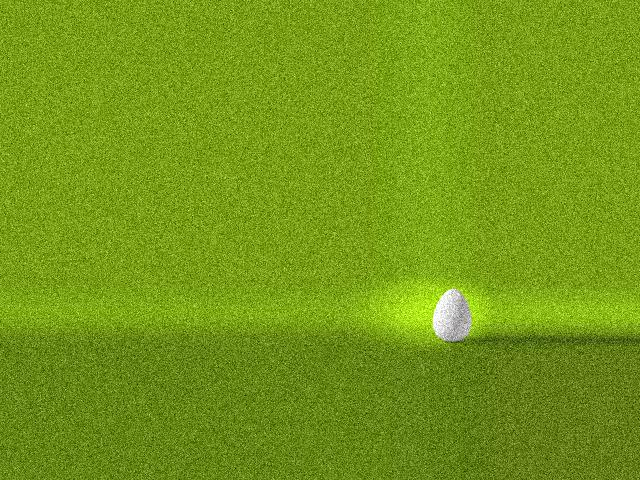egg: (433, 288, 471, 341)
